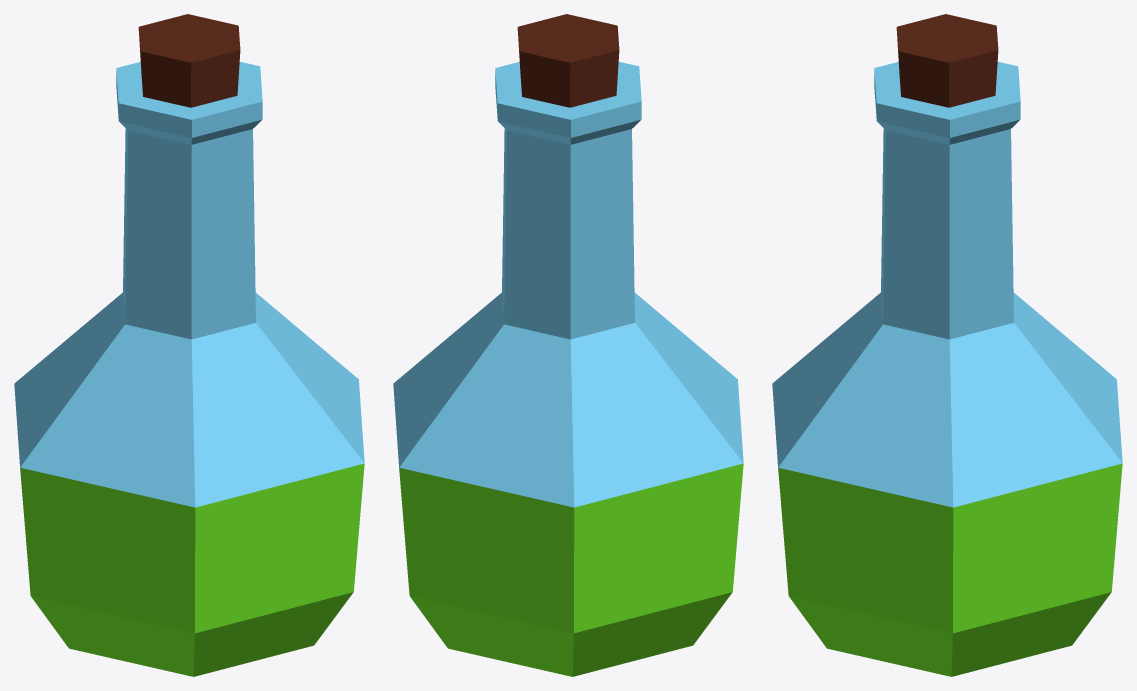
Rendered from m_GreenPotion.FBX.
3 views of the same model, side by side, from view 1: azimuth 30°, elevation 25°; view 2: azimuth 150°, elevation 25°; view 3: azimuth 270°, elevation 25° (orthographic).
Visible parts, largest first — view 1: Circle.001; view 2: Circle.001; view 3: Circle.001.
Part boxes in pixels (x1,y1,x2,y2): Circle.001: (14,14,364,676); Circle.001: (393,14,743,676); Circle.001: (772,14,1122,676).
Bounding box in the file's own units: 45.15 × 72.46 × 39.76.
1 material, 1 textured.
